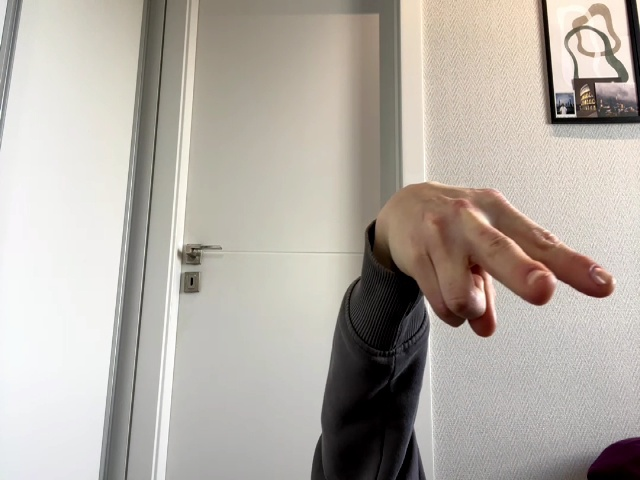U: (377, 181, 617, 339)
